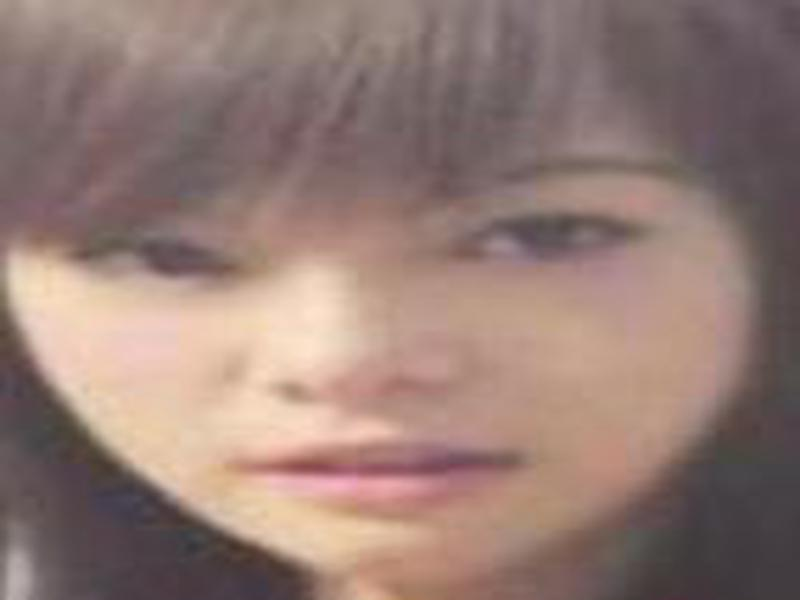without_mask: (16, 84, 753, 585)
